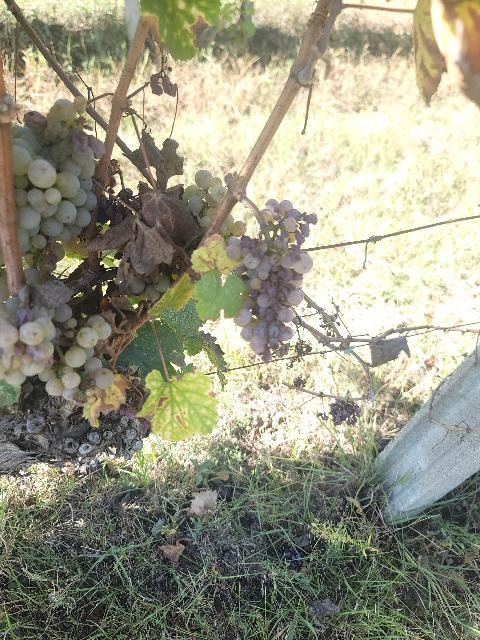grapes: (12, 96, 105, 268), (225, 199, 318, 361), (0, 298, 56, 385)
